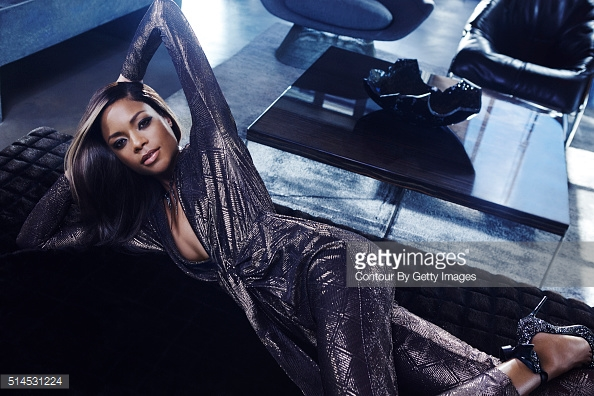deitado: (0, 71, 444, 396)
